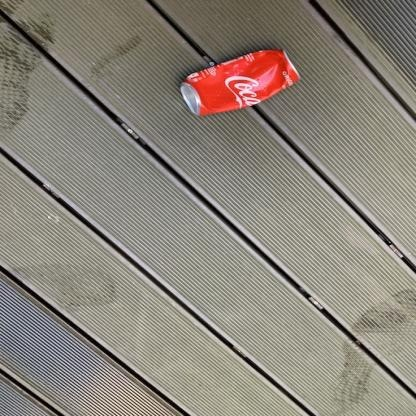trash: (180, 49, 299, 115)
